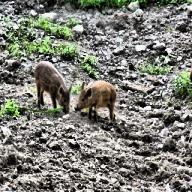boar: (33, 60, 72, 114), (74, 80, 116, 124)
